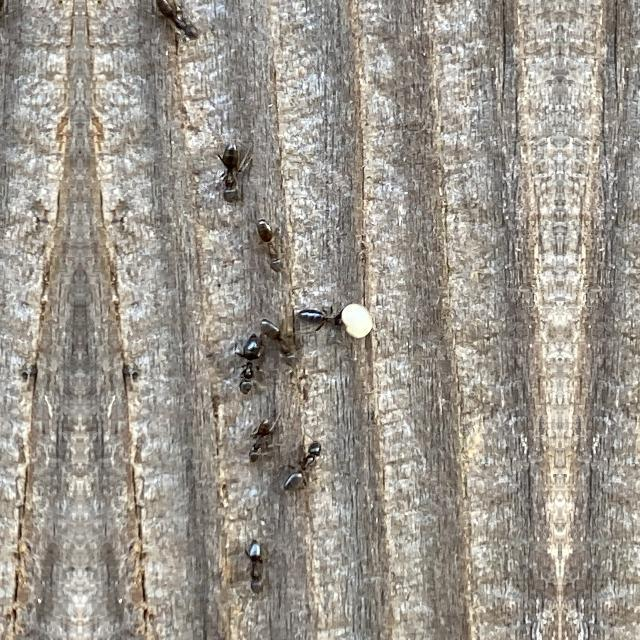Tapinoma: (148, 0, 206, 50), (280, 432, 324, 496), (296, 296, 362, 338), (213, 130, 249, 206), (231, 326, 265, 399), (250, 210, 286, 276), (238, 531, 270, 603), (259, 314, 299, 370), (240, 415, 274, 467), (0, 0, 12, 50)
